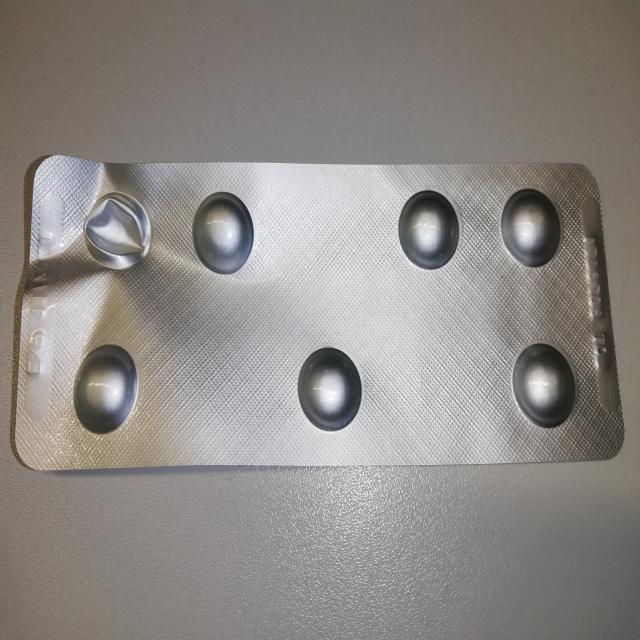Empty: (78, 188, 157, 276)
Pill: (67, 343, 144, 436), (294, 343, 366, 434), (508, 338, 577, 432), (392, 184, 463, 272), (189, 188, 256, 278), (498, 182, 564, 270)
